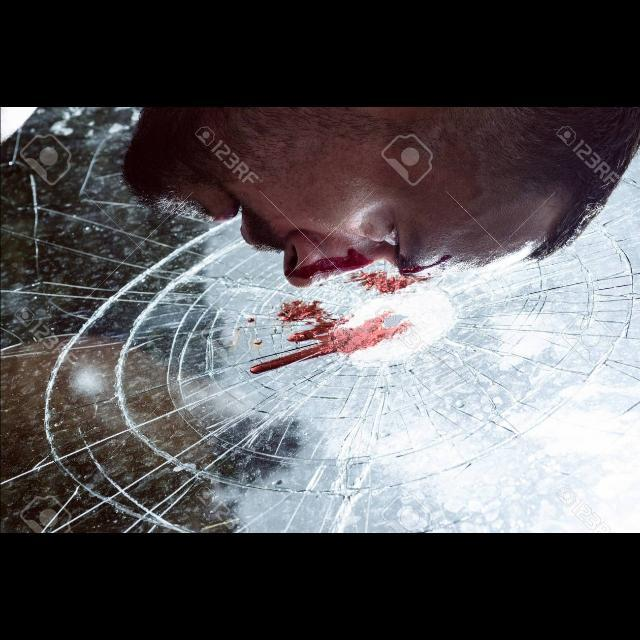blood: (250, 300, 413, 375), (285, 249, 373, 280), (361, 271, 434, 294)
